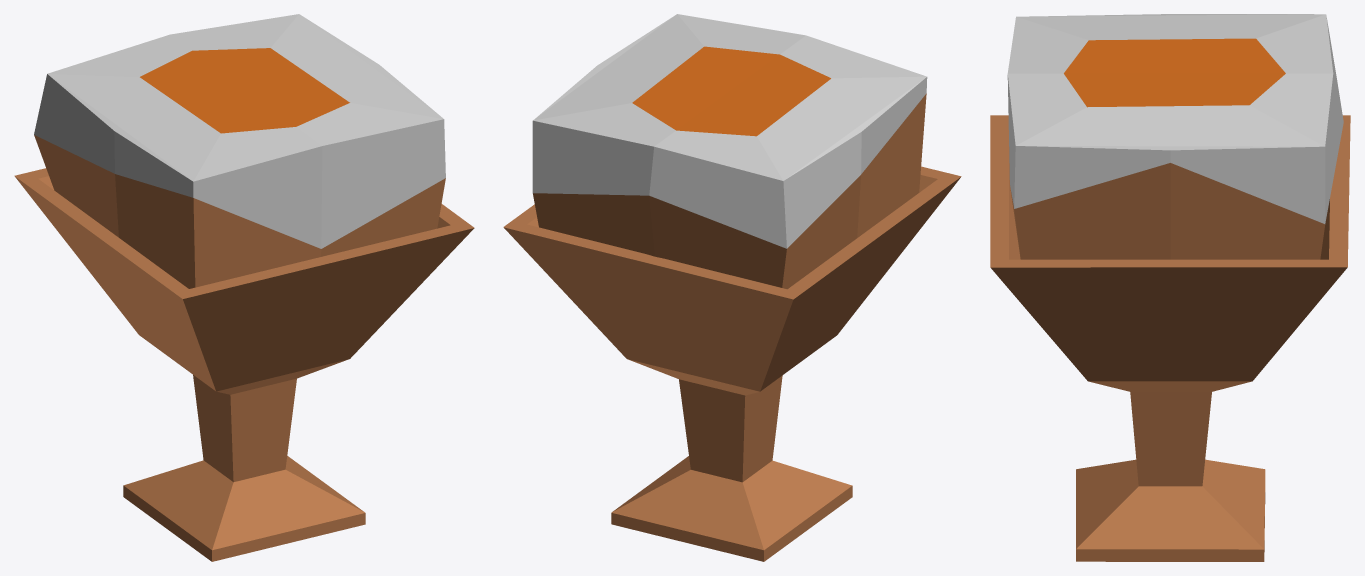
Rendered from softboiledEggWithBase.fbx.
3 views of the same model, side by side, from view 1: azimuth 30°, elevation 25°; view 2: azimuth 150°, elevation 25°; view 3: azimuth 270°, elevation 25° (orthographic). The views are drawn at different scales.
Visible parts, largest first — view 1: softboiledEggWithBase; view 2: softboiledEggWithBase; view 3: softboiledEggWithBase.
Boxes of the visible parts, <box> form: softboiledEggWithBase: <box>14,14,474,561</box>; softboiledEggWithBase: <box>503,14,961,561</box>; softboiledEggWithBase: <box>990,14,1350,561</box>.
Size of the model in its own units: 7.96 by 10.94 by 7.95.
Materials: 1 (1 with a texture image).
